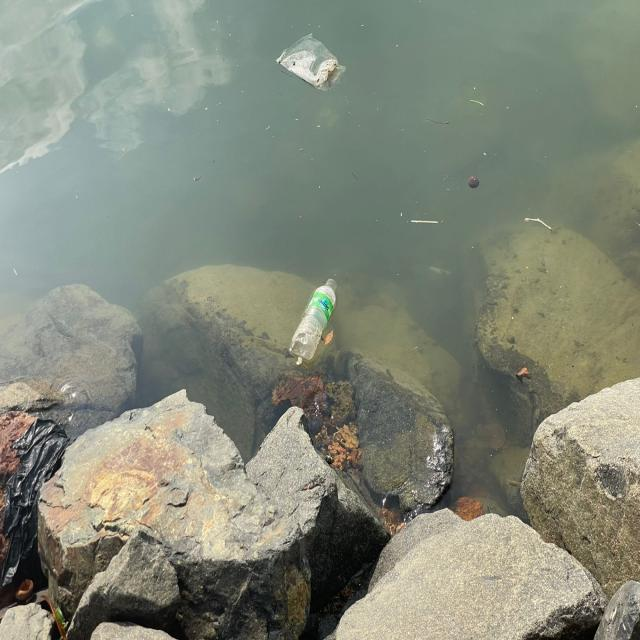Botol Plastik: (287, 263, 342, 368)
Kantong Plastik: (275, 28, 349, 107)
